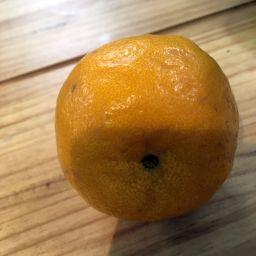Ripe: (55, 31, 239, 219)
